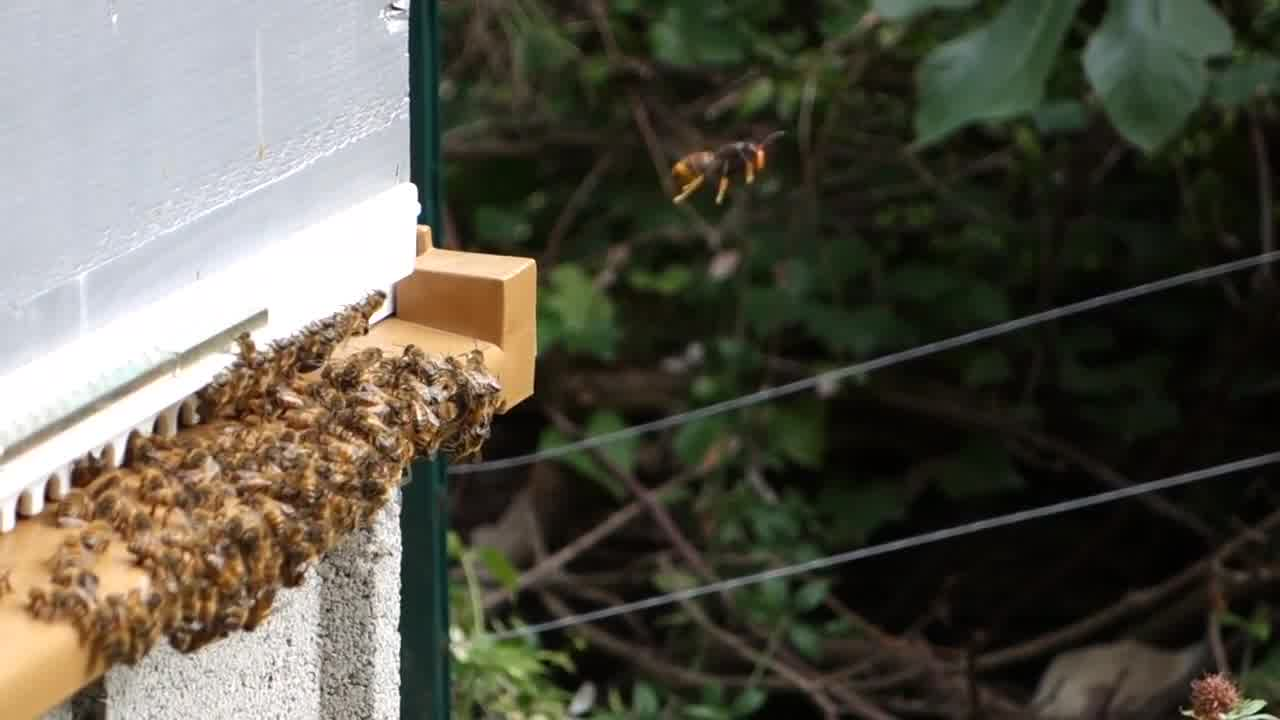bee: (84, 463, 221, 554), (157, 532, 248, 648), (213, 381, 341, 456), (284, 451, 374, 535), (346, 390, 423, 475), (230, 517, 316, 590), (426, 383, 495, 462), (372, 341, 489, 387), (96, 594, 155, 661), (228, 466, 290, 518), (281, 320, 340, 372), (37, 562, 99, 609), (228, 334, 270, 374), (352, 282, 389, 327)
hornet: (677, 116, 783, 200)
